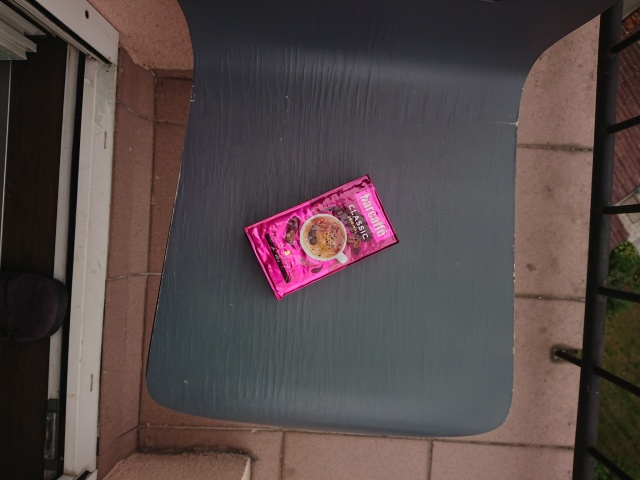Barcaffe Classic Original 225g: (241, 171, 402, 303)
